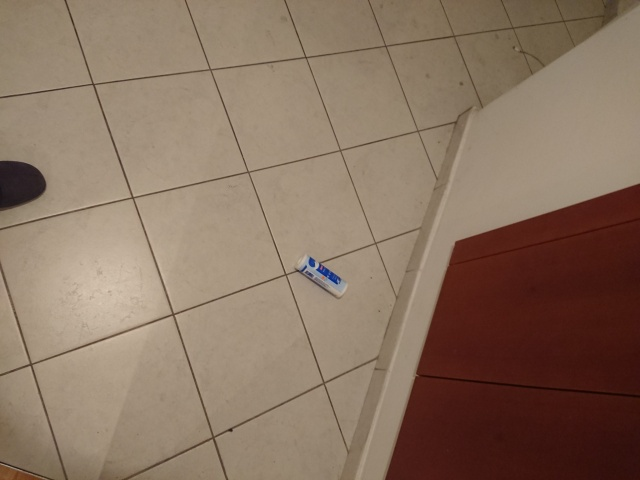Solana Pag Fine Sea Salt 250g: (291, 251, 351, 302)
